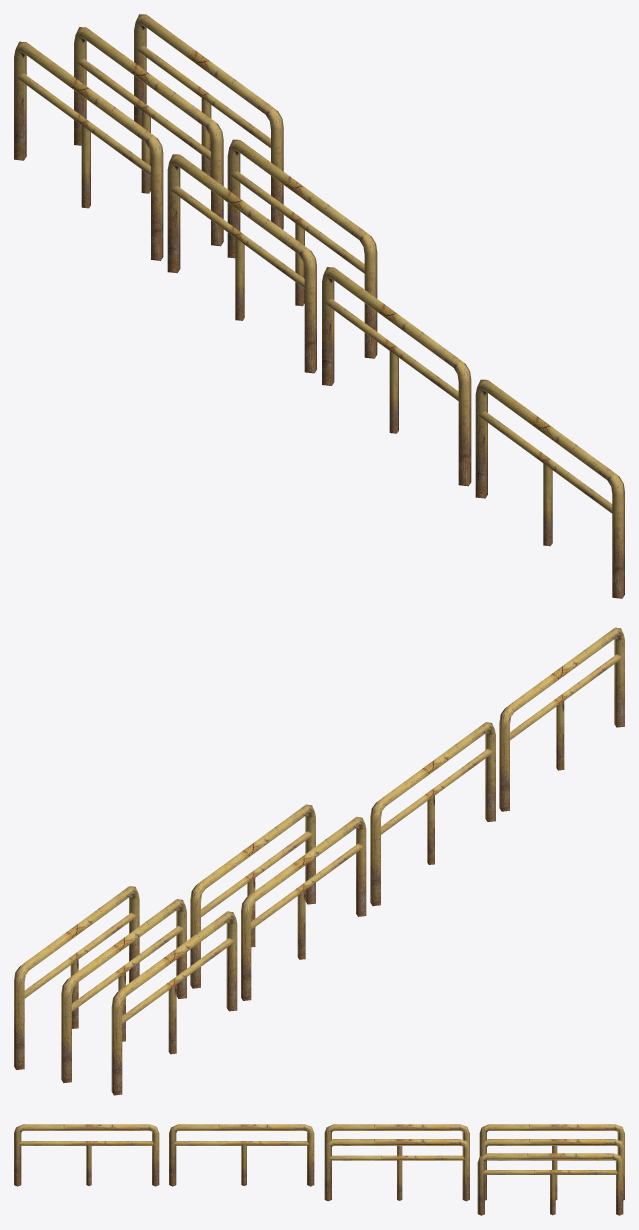
File: Support_set_v1_railing2.FBX
3 views of the same model, one above another, from view 1: azimuth 30°, elevation 25°; view 2: azimuth 150°, elevation 25°; view 3: azimuth 270°, elevation 25° (orthographic). The views are drawn at different scales.
Visible parts, largest first — view 1: Support_set_v1_railing2_3, Support_set_v1_railing2_2, Support_set_v1_railing2_1; view 2: Support_set_v1_railing2_3, Support_set_v1_railing2_2, Support_set_v1_railing2_1; view 3: Support_set_v1_railing2_3, Support_set_v1_railing2_2, Support_set_v1_railing2_1.
Part boxes in pixels (<box>): Support_set_v1_railing2_3: <box>14,41,624,598</box>; Support_set_v1_railing2_2: <box>74,27,377,358</box>; Support_set_v1_railing2_1: <box>134,14,283,229</box>; Support_set_v1_railing2_3: <box>111,627,624,1095</box>; Support_set_v1_railing2_2: <box>61,804,315,1082</box>; Support_set_v1_railing2_1: <box>14,886,139,1069</box>; Support_set_v1_railing2_3: <box>14,1124,624,1186</box>; Support_set_v1_railing2_2: <box>324,1139,624,1201</box>; Support_set_v1_railing2_1: <box>477,1153,623,1215</box>.
Size of the model in its own units: 1.31 by 1.15 by 10.47.
